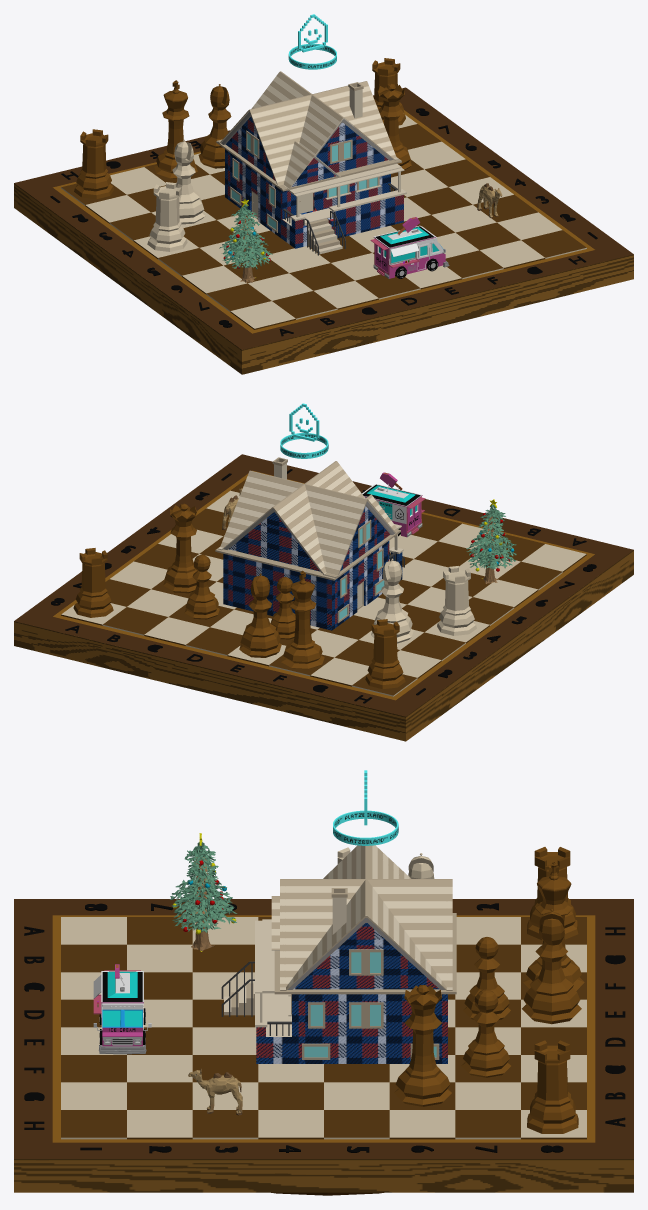
3 renders of one model, top to bottom at view 1: azimuth 30°, elevation 25°; view 2: azimuth 150°, elevation 25°; view 3: azimuth 270°, elevation 25°, orthographic. The views are drawn at different scales.
Parts seen in each view (by area): view 1: Cube.002, Cube.171, VEHICLES_ICE_CREAM_TRUCK, OBJRANDOM_CHRISTMAS_TREE, TYPE_PREMIUM, ANIMAL_CAMELLO; view 2: Cube.002, Cube.171, OBJRANDOM_CHRISTMAS_TREE, VEHICLES_ICE_CREAM_TRUCK, TYPE_PREMIUM; view 3: Cube.002, Cube.171, VEHICLES_ICE_CREAM_TRUCK, OBJRANDOM_CHRISTMAS_TREE, TYPE_PREMIUM, ANIMAL_CAMELLO.
Boxes of the visible parts, <box> form: Cube.002: <box>14,58,633,374</box>; Cube.171: <box>216,71,406,255</box>; VEHICLES_ICE_CREAM_TRUCK: <box>370,217,449,278</box>; OBJRANDOM_CHRISTMAS_TREE: <box>219,199,272,282</box>; TYPE_PREMIUM: <box>288,14,336,69</box>; ANIMAL_CAMELLO: <box>477,183,502,217</box>; Cube.002: <box>14,454,633,741</box>; Cube.171: <box>215,457,404,630</box>; OBJRANDOM_CHRISTMAS_TREE: <box>466,499,516,583</box>; VEHICLES_ICE_CREAM_TRUCK: <box>362,472,425,537</box>; TYPE_PREMIUM: <box>280,403,328,458</box>; Cube.002: <box>14,847,633,1192</box>; Cube.171: <box>221,845,456,1063</box>; VEHICLES_ICE_CREAM_TRUCK: <box>93,964,151,1054</box>; OBJRANDOM_CHRISTMAS_TREE: <box>170,833,237,951</box>; TYPE_PREMIUM: <box>333,770,398,845</box>; ANIMAL_CAMELLO: <box>188,1068,242,1115</box>.
Size of the model in its own units: 3981 by 2244 by 4012.
Materials: 47 (4 with a texture image).
